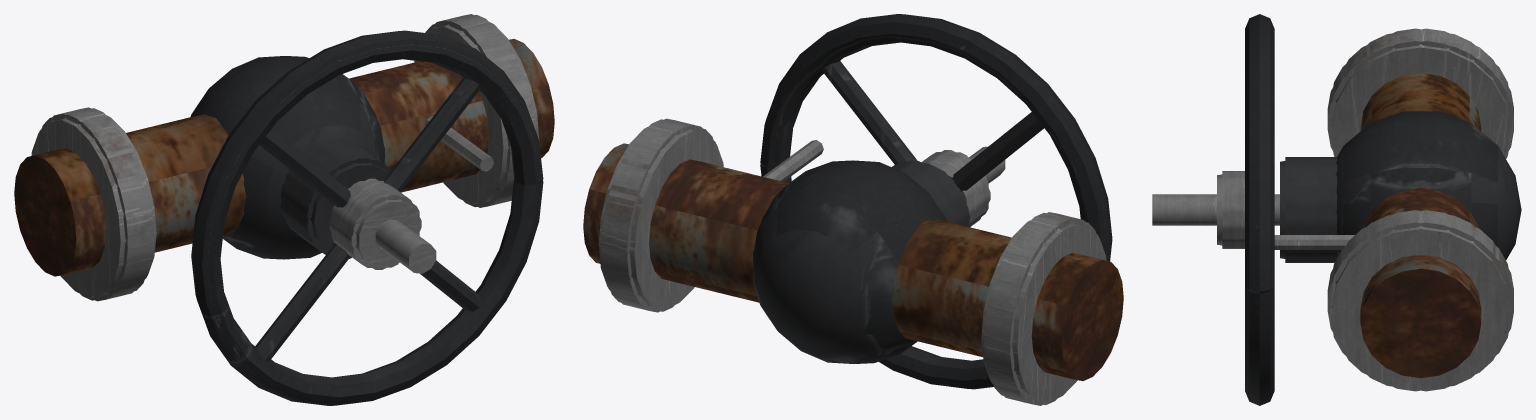
File: valve_wheel.gltf
3 views of the same model, side by side, from view 1: azimuth 30°, elevation 25°; view 2: azimuth 150°, elevation 25°; view 3: azimuth 270°, elevation 25° (orthographic). The views are drawn at different scales.
Visible parts, largest first — view 1: Body, Wheel; view 2: Body, Wheel; view 3: Body, Wheel.
Boxes of the visible parts, x1,y1,x2,y2 form: Body: [14, 14, 554, 301]; Wheel: [191, 30, 543, 405]; Body: [583, 118, 1123, 405]; Wheel: [760, 14, 1112, 389]; Body: [1152, 28, 1521, 391]; Wheel: [1217, 14, 1274, 405].
Size of the model in its own units: 0.4 by 0.292 by 0.275.
Materials: 3 (3 with a texture image).
